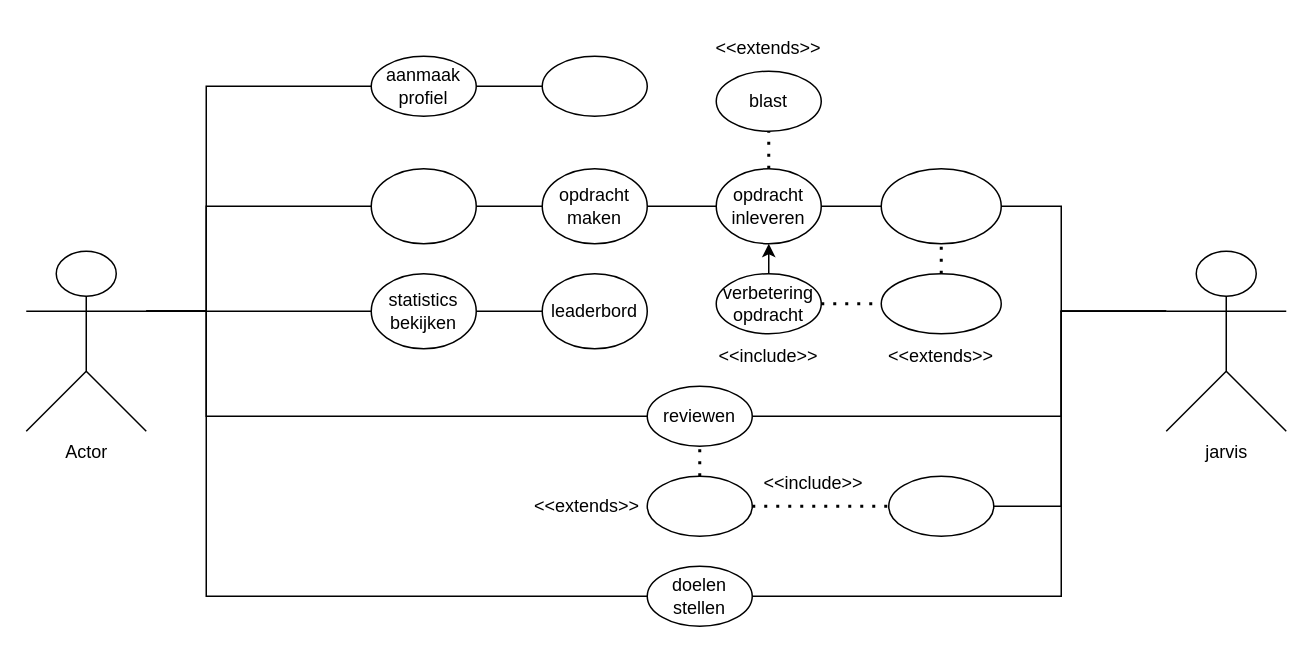
Some shapes in this 1313 by 653 pixel diagram are drawn without their labels. The centre of each missing label's shape, as x and y in pixels:
afgekeurd: (x=940, y=303)
afkeuring: (x=699, y=505)
inloggen: (x=594, y=85)
issue aanmaken: (x=940, y=505)
opdracht bekijken: (x=423, y=205)
student kijkt opdracht na: (x=940, y=205)
